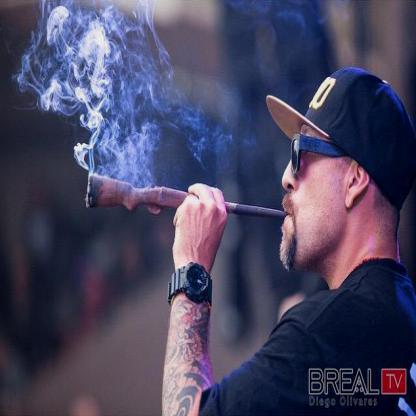person: (248, 65, 416, 415)
smoke: (30, 3, 158, 112), (106, 122, 158, 186), (77, 112, 103, 174), (174, 102, 204, 130), (186, 134, 208, 162)
